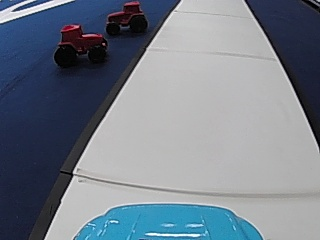tractor: (52, 21, 108, 68), (102, 1, 149, 35)
